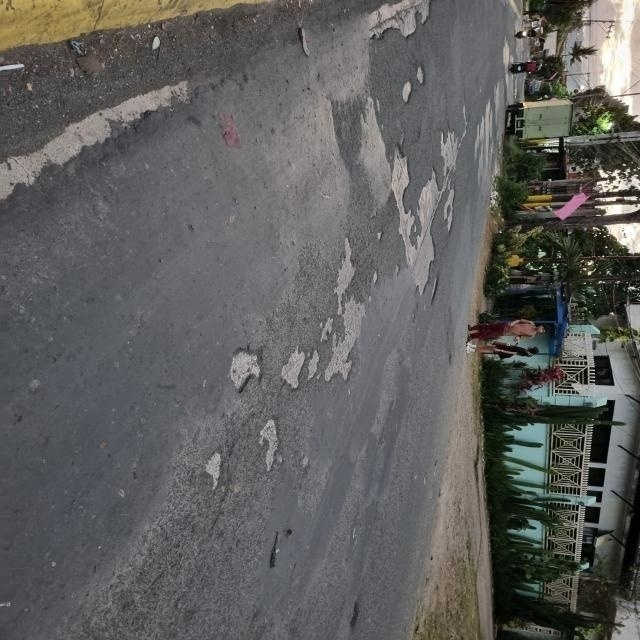pothole: (342, 122, 450, 342), (172, 308, 274, 400), (268, 338, 331, 416), (242, 407, 298, 482), (182, 438, 236, 514), (386, 55, 453, 111)
